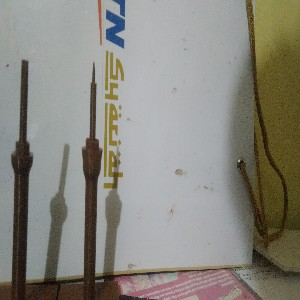obeng: (10, 59, 35, 300)
solder: (80, 59, 104, 300)
